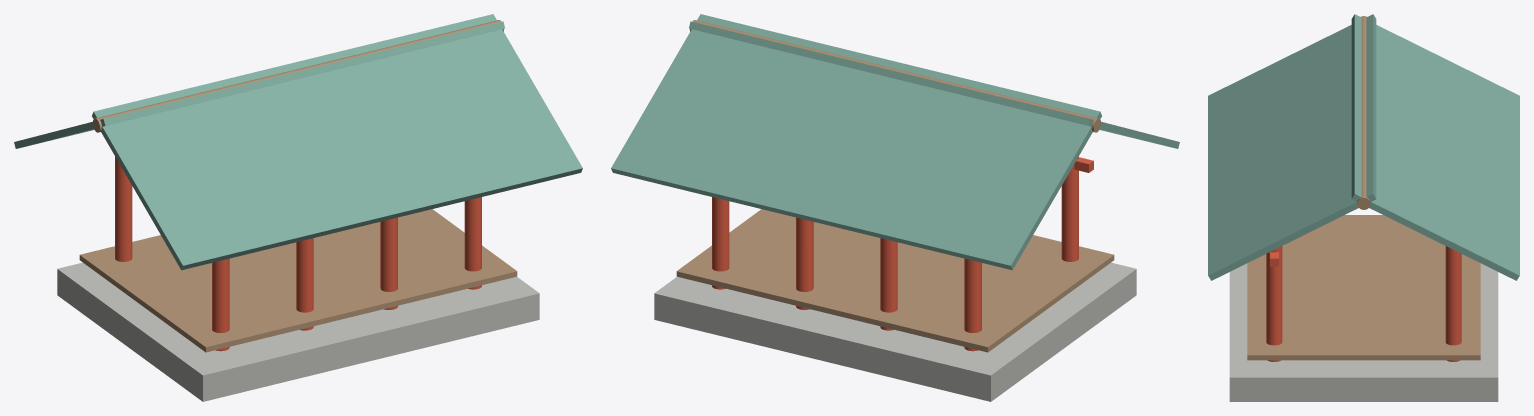
Rendered from test_shrine_draco.glb.
The picture shows the model from 3 angles, left to right: view 1: azimuth 30°, elevation 25°; view 2: azimuth 150°, elevation 25°; view 3: azimuth 270°, elevation 25°; orthographic projection. The views are drawn at different scales.
Visible parts, largest first — view 1: Yane_Front, Yuka_床, Kidan_基壇, Yane_Back, Hashira_1, Munagi_棟木, Hashira_4, Hashira_2, Hashira_8, Hashira_6; view 2: Yane_Back, Yuka_床, Kidan_基壇, Yane_Front, Hashira_2, Munagi_棟木, Hashira_3, Hashira_1, Hashira_7, Hashira_5; view 3: Yane_Front, Yane_Back, Yuka_床, Kidan_基壇, Hashira_7, Hashira_8, Munagi_棟木.
Boxes of the visible parts, <box> form: Yane_Front: <box>92,14,582,270</box>; Yuka_床: <box>79,209,517,352</box>; Kidan_基壇: <box>57,262,539,401</box>; Yane_Back: <box>14,21,504,148</box>; Hashira_1: <box>115,156,132,261</box>; Munagi_棟木: <box>93,20,504,132</box>; Hashira_4: <box>296,238,313,330</box>; Hashira_2: <box>212,258,229,351</box>; Hashira_8: <box>464,197,481,289</box>; Hashira_6: <box>380,217,397,309</box>; Yane_Back: <box>611,14,1101,270</box>; Yuka_床: <box>676,209,1114,352</box>; Kidan_基壇: <box>654,262,1136,401</box>; Yane_Front: <box>689,21,1179,148</box>; Hashira_2: <box>1061,156,1078,261</box>; Munagi_棟木: <box>689,20,1100,132</box>; Hashira_3: <box>880,238,897,330</box>; Hashira_1: <box>964,258,981,351</box>; Hashira_7: <box>712,197,729,289</box>; Hashira_5: <box>796,217,813,309</box>; Yane_Front: <box>1208,14,1376,280</box>; Yane_Back: <box>1351,14,1519,280</box>; Yuka_床: <box>1247,215,1480,360</box>; Kidan_基壇: <box>1229,263,1498,401</box>; Hashira_7: <box>1445,246,1461,361</box>; Hashira_8: <box>1266,246,1282,361</box>; Munagi_棟木: <box>1357,16,1370,209</box>.
Bounding box in the file's own units: 9.6 × 5.47 × 6.96.
